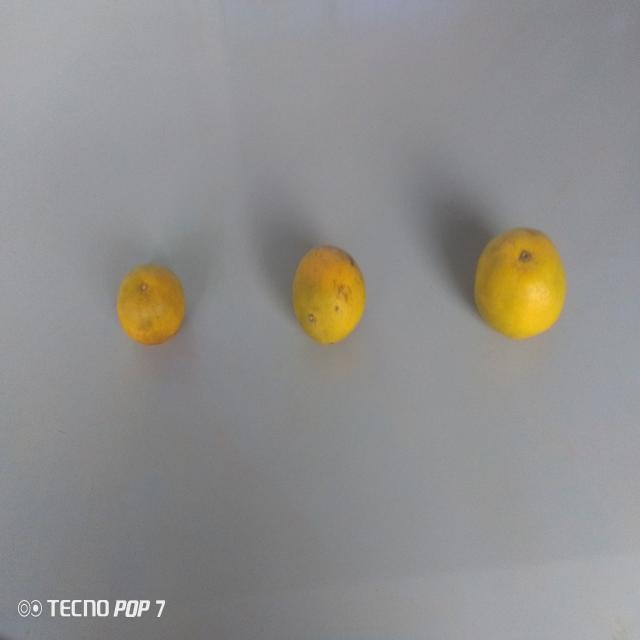Ripe orange: (457, 213, 575, 346), (290, 239, 380, 354), (108, 259, 196, 362)
